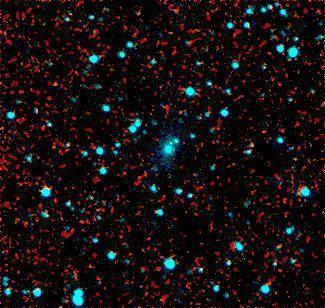star: (156, 127, 186, 157)
